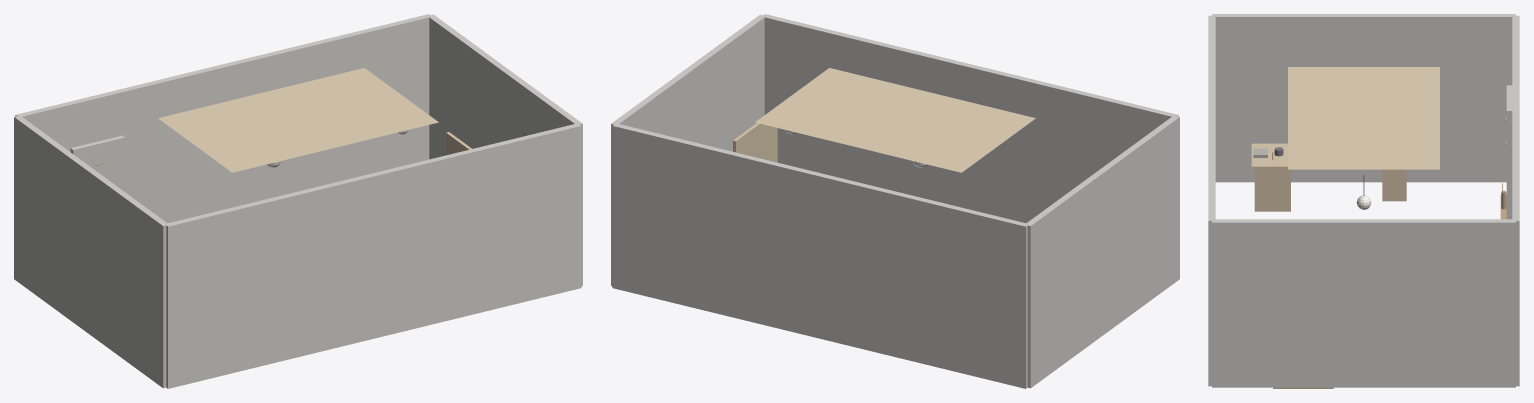
3 views of the same model, side by side, from view 1: azimuth 30°, elevation 25°; view 2: azimuth 150°, elevation 25°; view 3: azimuth 270°, elevation 25° (orthographic).
Parts seen in each view (by area): view 1: Wall_South, Wall_North, Wall_West, Ceiling, Wall_East, Tokonoma_Back; view 2: Wall_North, Wall_South, Wall_West, Ceiling, Wall_East, ShojiFrame; view 3: Wall_East, Wall_West, Ceiling, Wall_South, Wall_North, MizuyaCabinet, Tokonoma_Back, UtShelf_Frame, MizuyaTop.
Boxes of the visible parts, x1,y1,x2,y2 form: Wall_South: [165, 123, 581, 388]; Wall_North: [15, 14, 431, 223]; Wall_West: [14, 116, 168, 388]; Ceiling: [158, 68, 438, 172]; Wall_East: [428, 14, 582, 285]; Tokonoma_Back: [70, 135, 124, 191]; Wall_North: [612, 123, 1028, 388]; Wall_South: [762, 14, 1178, 223]; Wall_West: [1025, 116, 1179, 388]; Ceiling: [755, 68, 1035, 172]; Wall_East: [611, 14, 764, 285]; ShojiFrame: [733, 123, 777, 162]; Wall_East: [1212, 219, 1515, 387]; Wall_West: [1212, 14, 1515, 182]; Ceiling: [1288, 67, 1439, 169]; Wall_South: [1208, 15, 1215, 386]; Wall_North: [1512, 15, 1519, 386]; MizuyaCabinet: [1254, 168, 1290, 211]; Tokonoma_Back: [1506, 85, 1512, 219]; UtShelf_Frame: [1382, 169, 1406, 201]; MizuyaTop: [1251, 143, 1287, 168].
Bounding box in the file's own units: 8.12 × 3.05 × 5.12.
